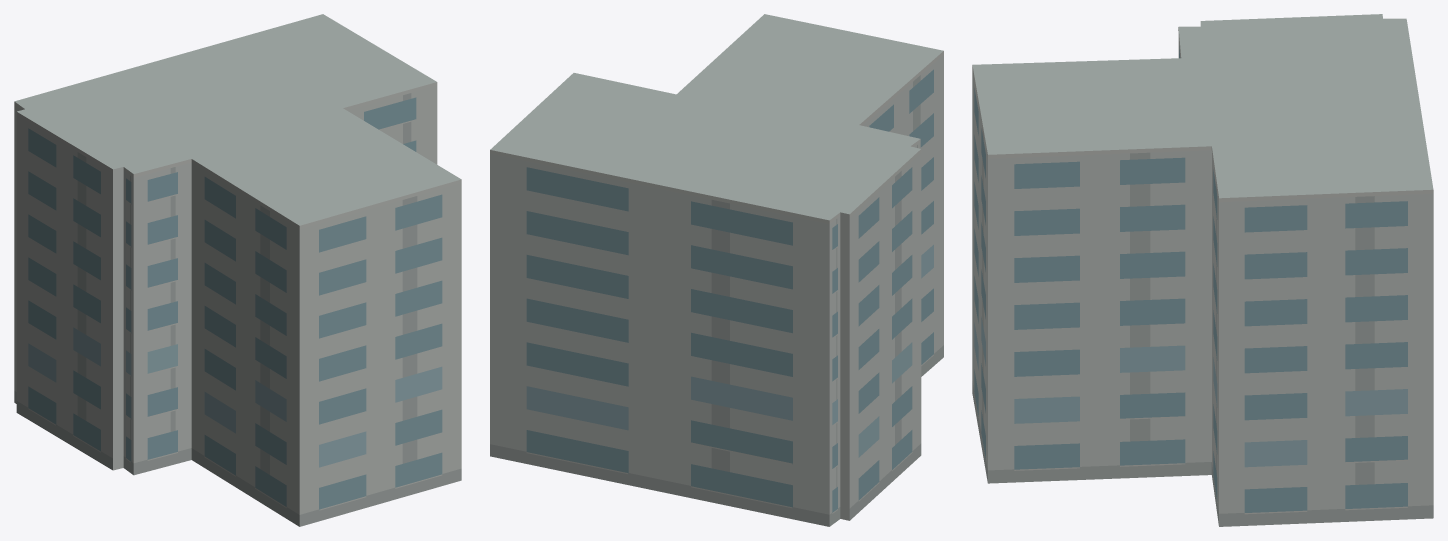
The model's file is survey-upis-32997224.glb.
3 views of the same model, side by side, from view 1: azimuth 30°, elevation 25°; view 2: azimuth 150°, elevation 25°; view 3: azimuth 270°, elevation 25° (orthographic). The views are drawn at different scales.
Visible parts, largest first — view 1: survey-upis-32997224.tmp; view 2: survey-upis-32997224.tmp; view 3: survey-upis-32997224.tmp.
Boxes of the visible parts, x1=… form: survey-upis-32997224.tmp: x1=14, y1=14, x2=461, y2=526; survey-upis-32997224.tmp: x1=490, y1=14, x2=943, y2=526; survey-upis-32997224.tmp: x1=972, y1=14, x2=1433, y2=526.
Size of the model in its own units: 23.69 by 19.7 by 25.06.
